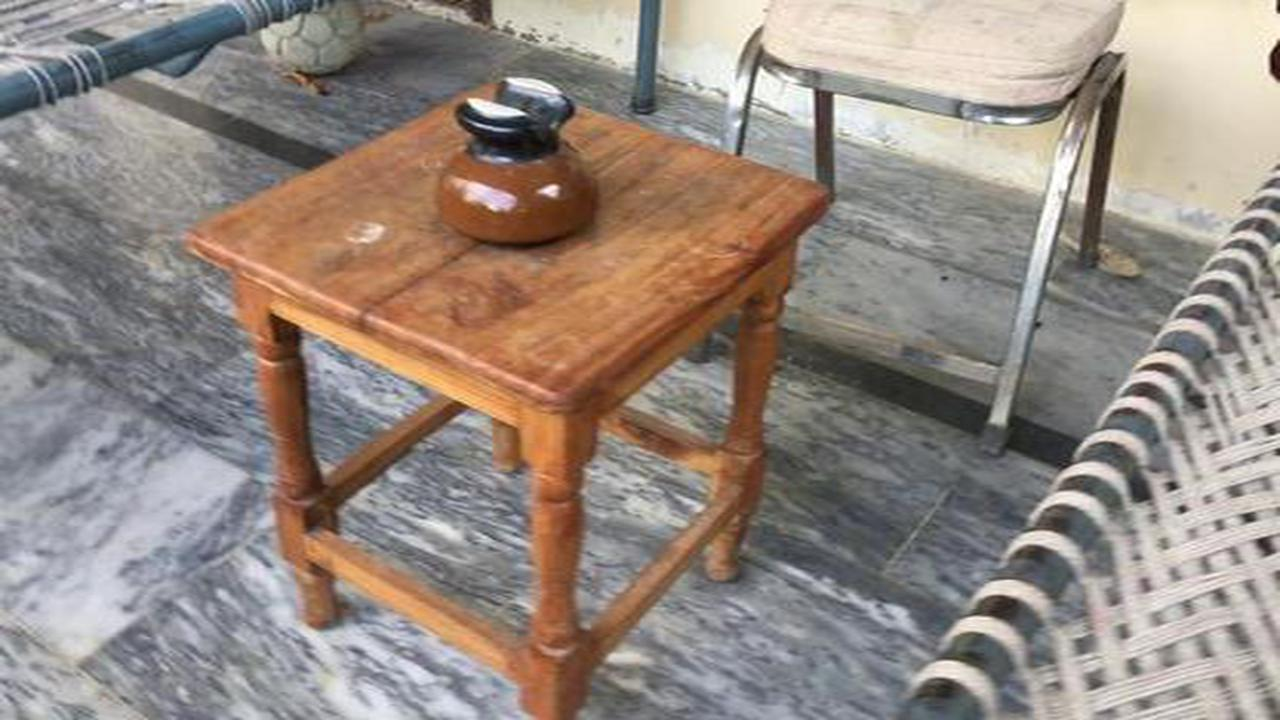insulator_pin: (413, 63, 625, 255)
